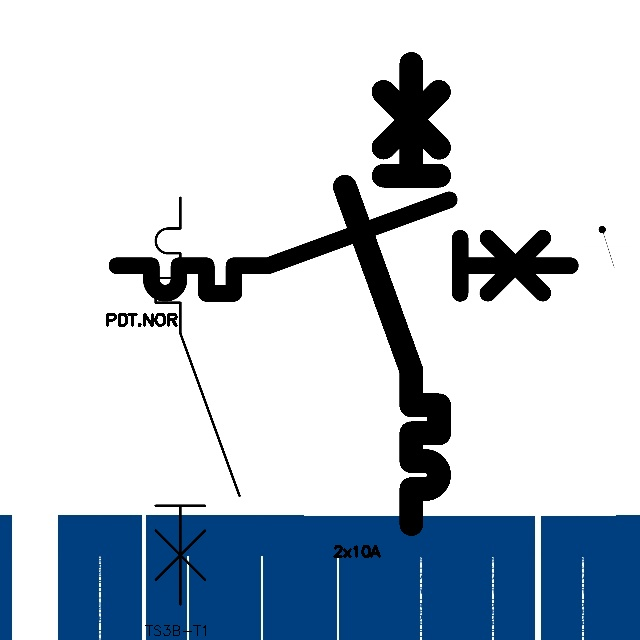interruptor_termomagnetico: (333, 52, 451, 536), (105, 188, 582, 305), (145, 187, 249, 615)
